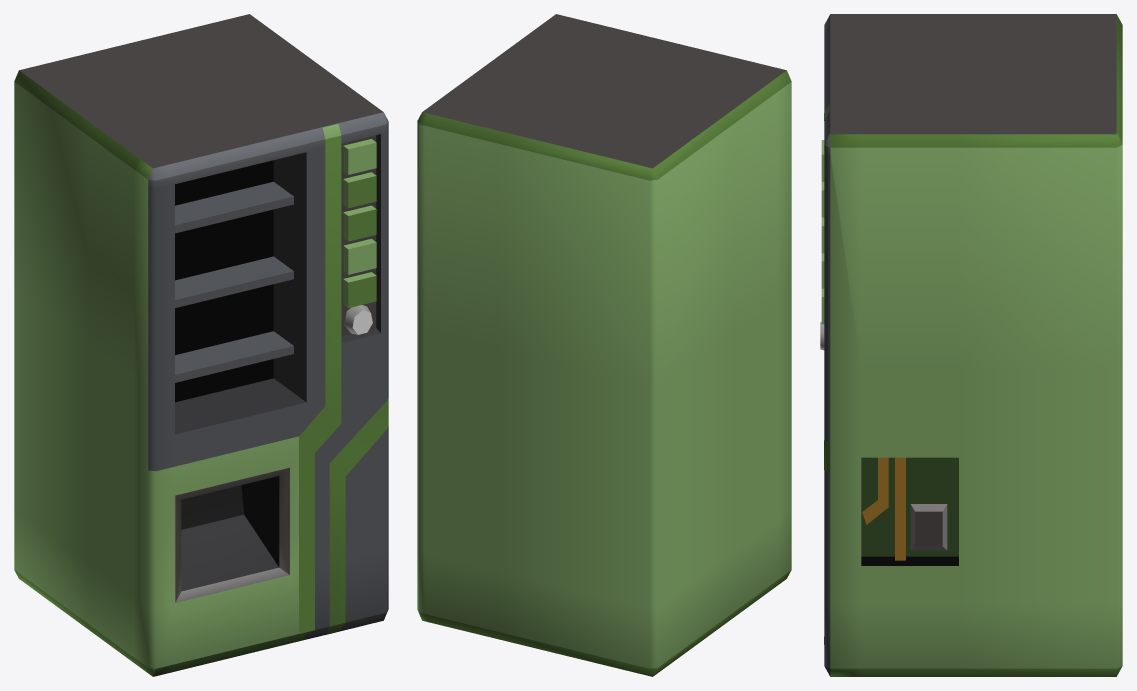
File: NutriMax.glb
The picture shows the model from 3 angles, left to right: view 1: azimuth 30°, elevation 25°; view 2: azimuth 150°, elevation 25°; view 3: azimuth 270°, elevation 25°; orthographic projection. The views are drawn at different scales.
Visible parts, largest first — view 1: NutriMax; view 2: NutriMax; view 3: NutriMax.
Boxes of the visible parts, <box> form: NutriMax: <box>14,14,388,676</box>; NutriMax: <box>417,14,791,676</box>; NutriMax: <box>820,14,1122,676</box>.
Size of the model in its own units: 0.8911 by 1.8 by 0.9082.
2 materials, 1 textured.
